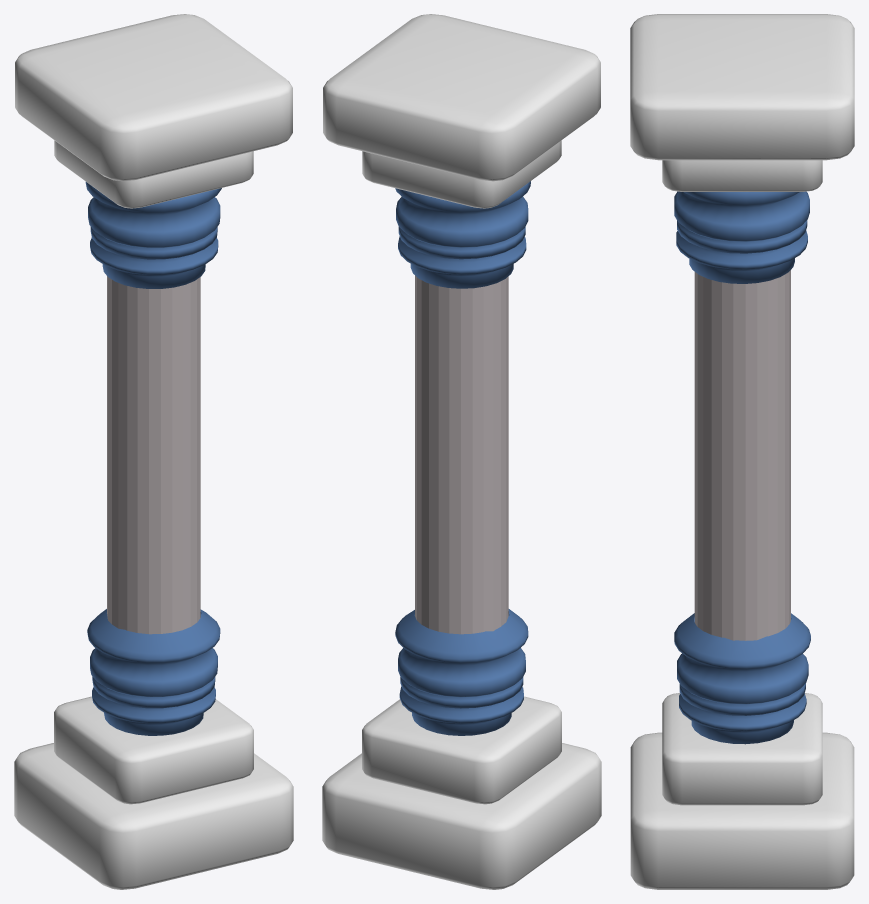
The model's file is pillar.fbx.
The picture shows the model from 3 angles, left to right: view 1: azimuth 30°, elevation 25°; view 2: azimuth 150°, elevation 25°; view 3: azimuth 270°, elevation 25°; orthographic projection. The views are drawn at different scales.
Parts seen in each view (by area): view 1: Cube, Cylinder, Cylinder.001; view 2: Cube, Cylinder, Cylinder.001; view 3: Cube, Cylinder, Cylinder.001.
Part boxes in pixels (box(x1,y1,x2,y2)): Cube: box(14, 14, 293, 889); Cylinder: box(107, 276, 200, 634); Cylinder.001: box(85, 182, 221, 735); Cube: box(322, 14, 601, 889); Cylinder: box(415, 275, 508, 634); Cylinder.001: box(395, 181, 530, 735); Cube: box(630, 14, 854, 889); Cylinder: box(694, 270, 790, 640); Cylinder.001: box(674, 191, 810, 744).
Bounding box in the file's own units: 258 × 999 × 256.
